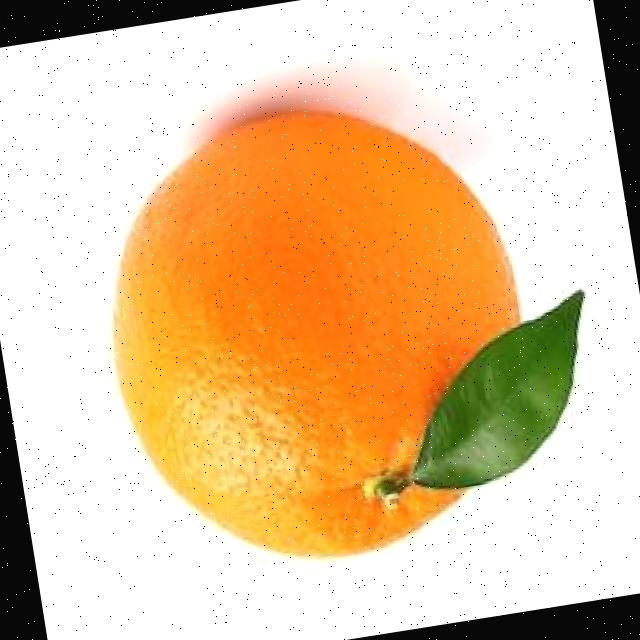orange: (76, 79, 558, 594)
